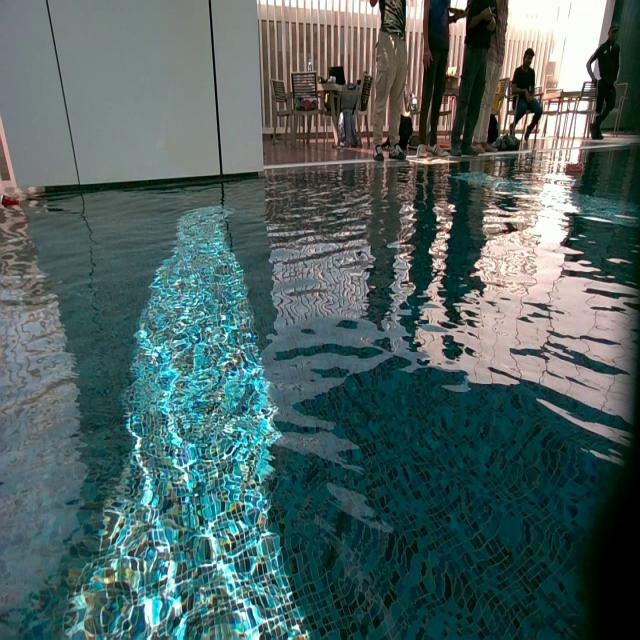Cans: (0, 194, 23, 210), (564, 162, 584, 176)
